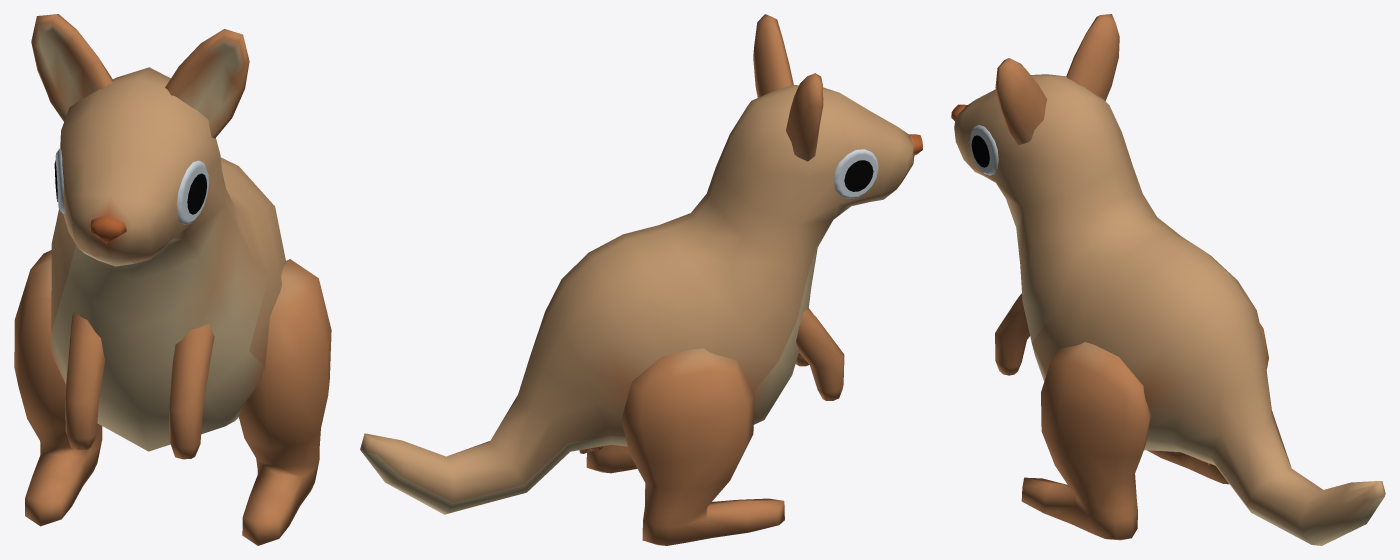
The model's file is Kangaroo.glb.
3 views of the same model, side by side, from view 1: azimuth 30°, elevation 25°; view 2: azimuth 150°, elevation 25°; view 3: azimuth 270°, elevation 25° (orthographic). The views are drawn at different scales.
Parts seen in each view (by area): view 1: 83; view 2: 83; view 3: 83.
Boxes of the visible parts, x1,y1,x2,y2 form: 83: (14, 14, 331, 545); 83: (360, 14, 922, 545); 83: (951, 14, 1385, 545).
Size of the model in its own units: 0.9726 by 1.17 by 1.07.
